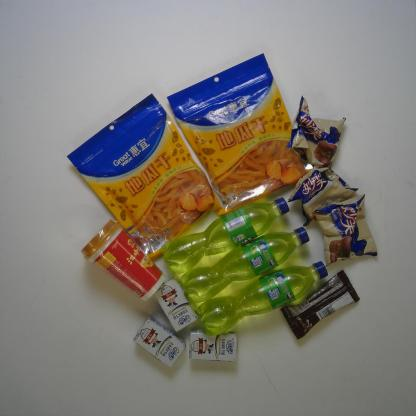Chocolate: (280, 270, 361, 340)
Dessert: (287, 161, 360, 226), (285, 95, 347, 170), (315, 194, 378, 267)
Dried Fruit: (67, 93, 224, 266), (167, 53, 318, 213)
Drink: (180, 227, 309, 304), (198, 260, 328, 335), (162, 198, 289, 274)
Instant Drink: (81, 218, 165, 301)
Milk: (134, 318, 186, 367), (152, 278, 199, 332), (187, 328, 238, 364)
